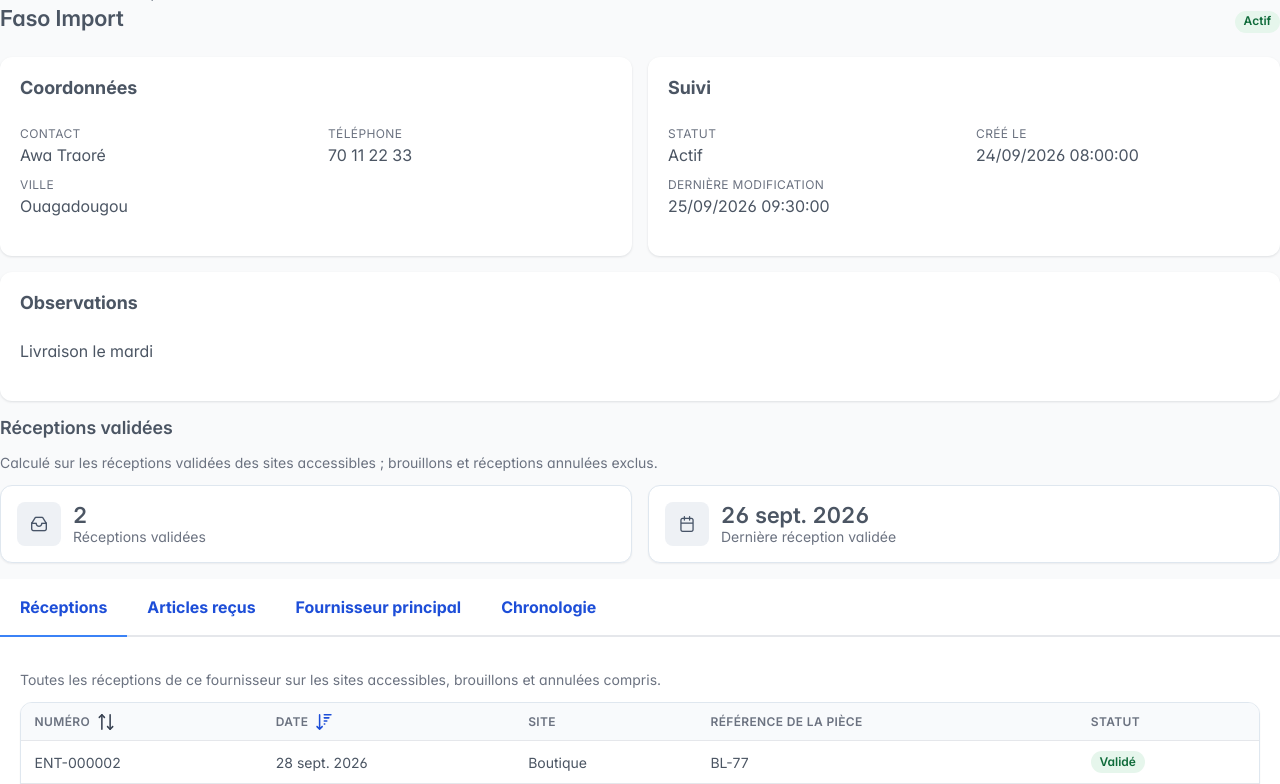
Test: fiche fournisseur (Lot 3-E) › sans cost_view : ni total reçu, ni dernier coût, ni montants
Expected: the text "ENT-000002" is shown, [21,741,262,783]
Click the tab "Articles reçus": (201, 608) [127,578,276,636]
(page scrolled)
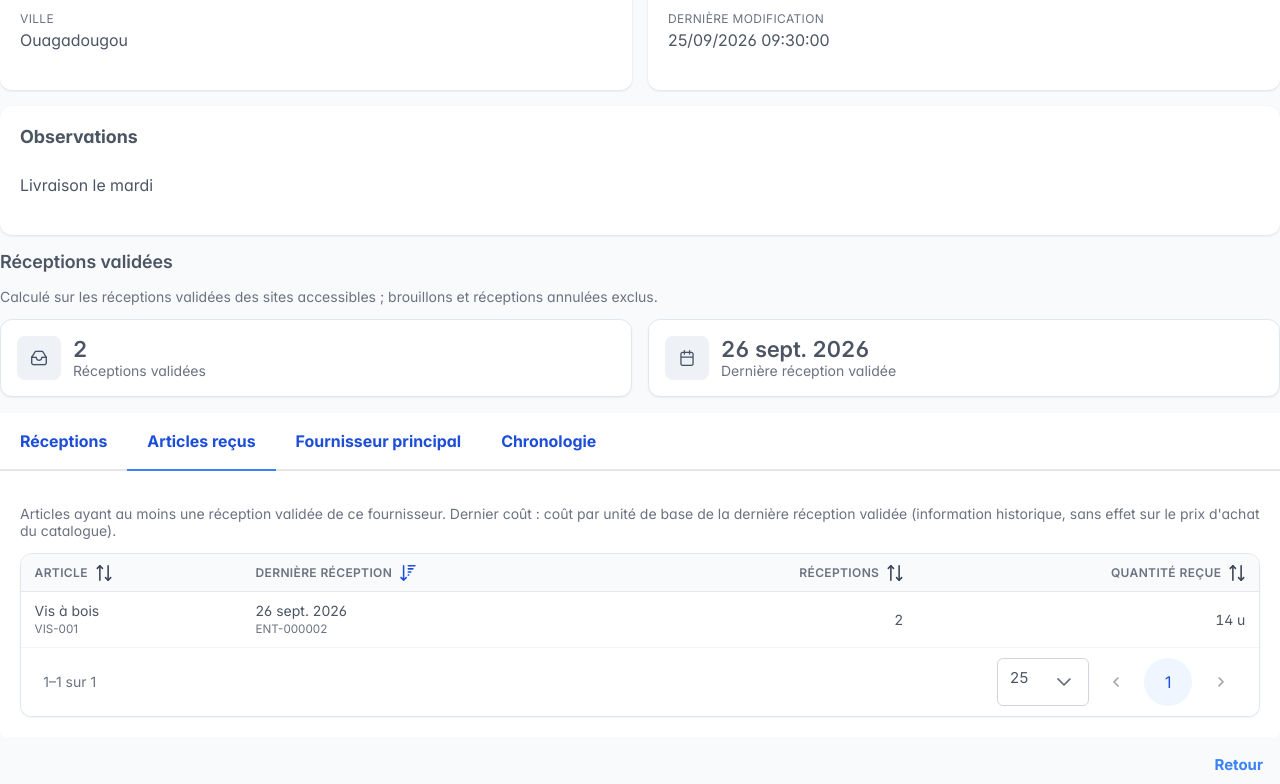
Expected: the text "Vis à bois" is shown, [35,602,99,619]
